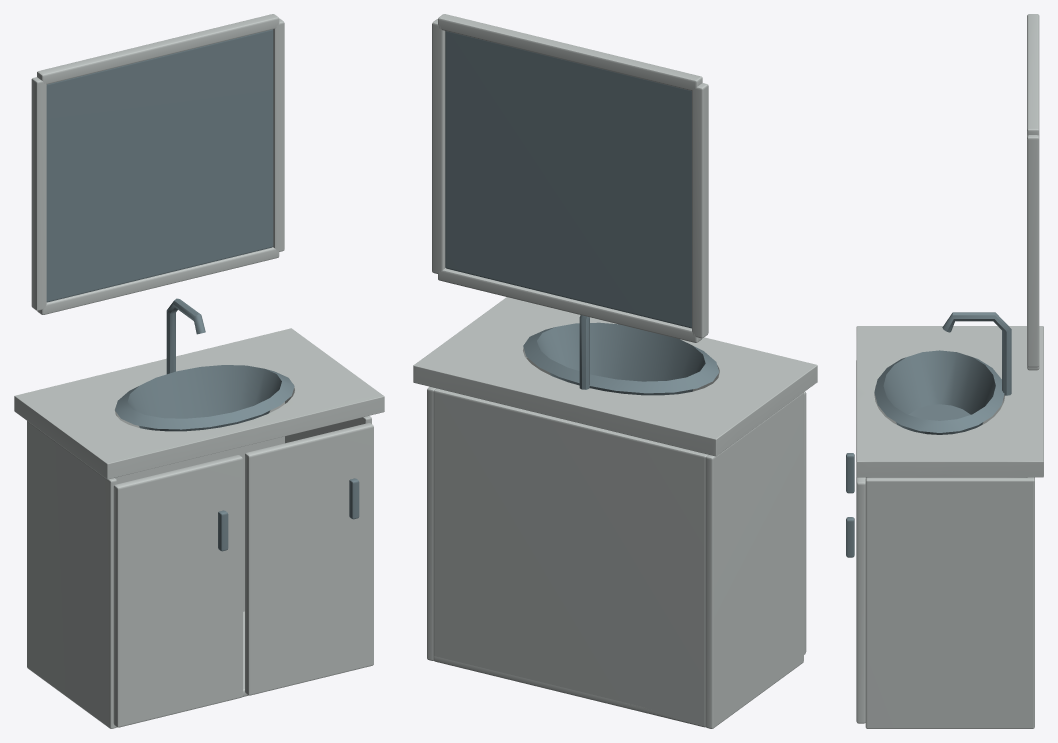
File: bathroom-sink.glb
The picture shows the model from 3 angles, left to right: view 1: azimuth 30°, elevation 25°; view 2: azimuth 150°, elevation 25°; view 3: azimuth 270°, elevation 25°; orthographic projection. The views are drawn at different scales.
Parts seen in each view (by area): view 1: mirror, vanity_door_0, vanity_door_1, counter, vanity_side, sink_bowl, mirror_frame_rail.001, mirror_frame_side, mirror_frame_rail, mirror_frame_side.001, vanity_rear, mixer (+1 smaller); view 2: vanity_rear, mirror, vanity_side, counter, sink_bowl, mirror_frame_rail.001, mirror_frame_side, mirror_frame_rail, mirror_frame_side.001, vanity_side.001, vanity_bottom, vanity_door_0 (+1 smaller); view 3: vanity_side.001, counter, sink_bowl, mirror_frame_side.001, vanity_door_1, mirror_frame_rail.001, mixer, vanity_pull_1, vanity_pull_0.
Part boxes in pixels (<box>): mirror: <box>46,29,273,302</box>; vanity_door_0: <box>113,455,242,727</box>; vanity_door_1: <box>245,423,373,695</box>; counter: <box>14,328,384,479</box>; vanity_side: <box>27,421,116,728</box>; sink_bowl: <box>115,365,294,431</box>; mirror_frame_rail.001: <box>37,14,279,84</box>; mirror_frame_side: <box>31,77,46,310</box>; mirror_frame_rail: <box>37,247,279,314</box>; mirror_frame_side.001: <box>273,18,284,251</box>; vanity_rear: <box>115,402,284,611</box>; mixer: <box>166,298,205,374</box>; vanity_rear: <box>433,388,707,727</box>; mirror: <box>445,31,691,328</box>; vanity_side: <box>705,392,803,728</box>; counter: <box>413,297,817,456</box>; sink_bowl: <box>523,322,719,395</box>; mirror_frame_rail.001: <box>438,14,702,90</box>; mirror_frame_side: <box>692,83,708,338</box>; mirror_frame_rail: <box>438,268,702,342</box>; mirror_frame_side.001: <box>432,19,445,273</box>; vanity_side.001: <box>427,387,435,660</box>; vanity_bottom: <box>433,656,694,724</box>; vanity_door_0: <box>692,379,806,654</box>; vanity_side.001: <box>865,477,1034,728</box>; counter: <box>856,326,1043,477</box>; sink_bowl: <box>874,350,1004,434</box>; mirror_frame_side.001: <box>1027,135,1039,367</box>; vanity_door_1: <box>856,424,866,723</box>; mirror_frame_rail.001: <box>1027,14,1039,135</box>; mixer: <box>942,312,1011,395</box>; vanity_pull_1: <box>846,517,854,557</box>; vanity_pull_0: <box>846,453,854,493</box>.
Bounding box in the file's own units: 0.91 × 1.86 × 0.56.
